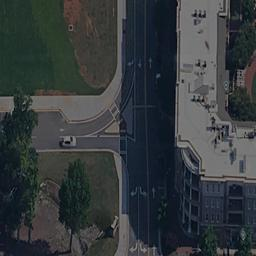Car: (60, 135, 79, 145)
Crosswalk: (120, 125, 129, 164), (109, 103, 123, 121)
Double Solid Yellow Line: (144, 1, 150, 242)
Left Turn Arrow: (138, 184, 146, 198), (139, 242, 147, 255)
Right Turn Arrow: (126, 56, 136, 68), (130, 241, 138, 253), (131, 185, 137, 197)
Stright Arrow: (151, 181, 157, 200), (149, 55, 154, 73), (151, 240, 156, 255)
